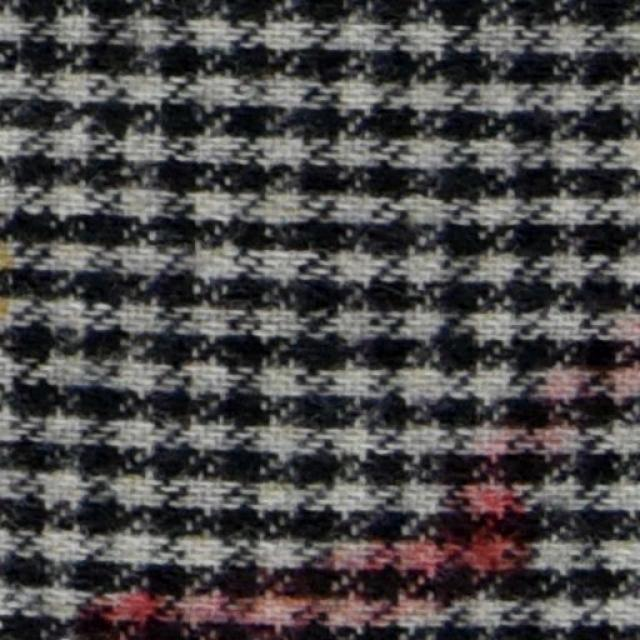Stain: (72, 365, 632, 640)
